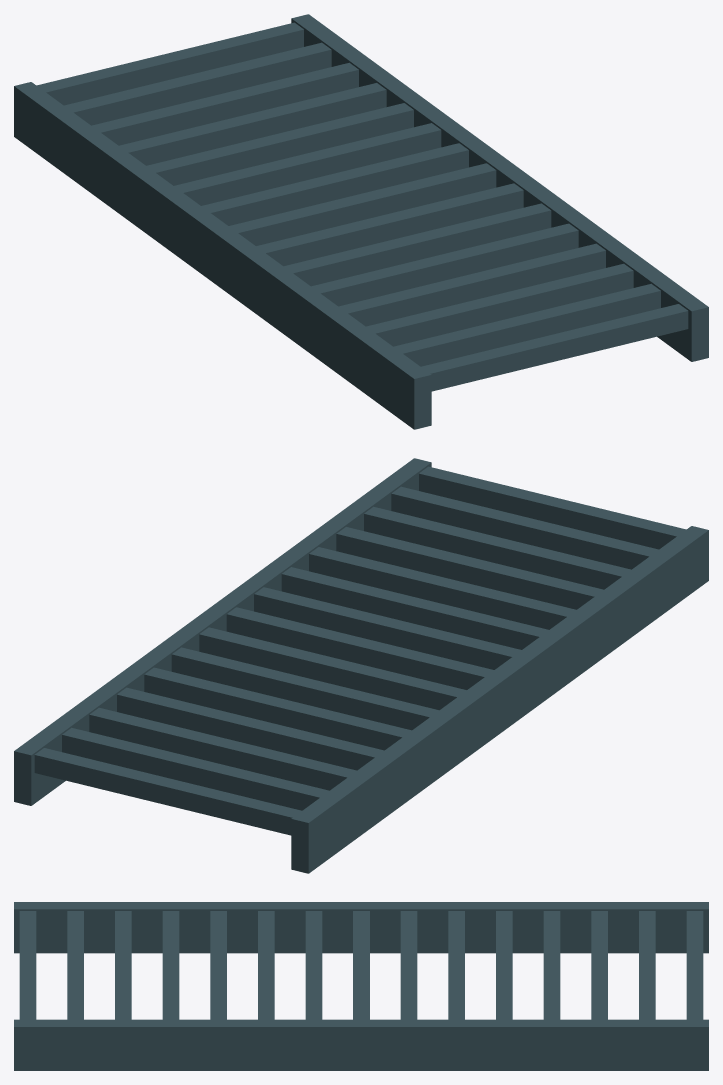
Rendered from drain_grate_1m.glb.
The picture shows the model from 3 angles, top to bottom: view 1: azimuth 30°, elevation 25°; view 2: azimuth 150°, elevation 25°; view 3: azimuth 270°, elevation 25°; orthographic projection. The views are drawn at different scales.
Parts seen in each view (by area): view 1: drain_grate_1m__VVK_painted_steel; view 2: drain_grate_1m__VVK_painted_steel; view 3: drain_grate_1m__VVK_painted_steel.
Boxes of the visible parts, x1=… form: drain_grate_1m__VVK_painted_steel: x1=14, y1=14, x2=708, y2=429; drain_grate_1m__VVK_painted_steel: x1=14, y1=458, x2=708, y2=873; drain_grate_1m__VVK_painted_steel: x1=14, y1=902, x2=708, y2=1070.
Size of the model in its own units: 0.425 by 0.07 by 1.
